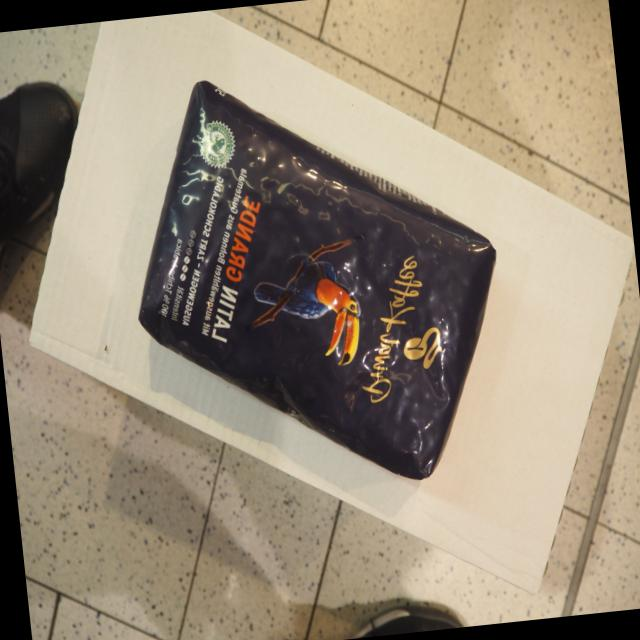LG Bohne: (131, 68, 506, 503)
